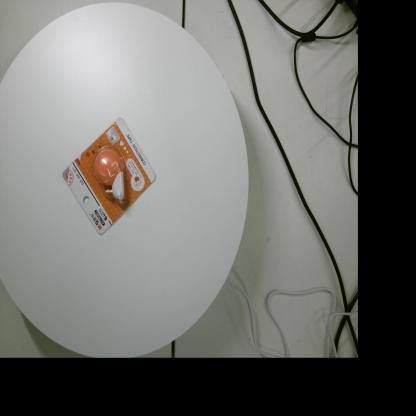Stationery: (62, 117, 156, 235)
